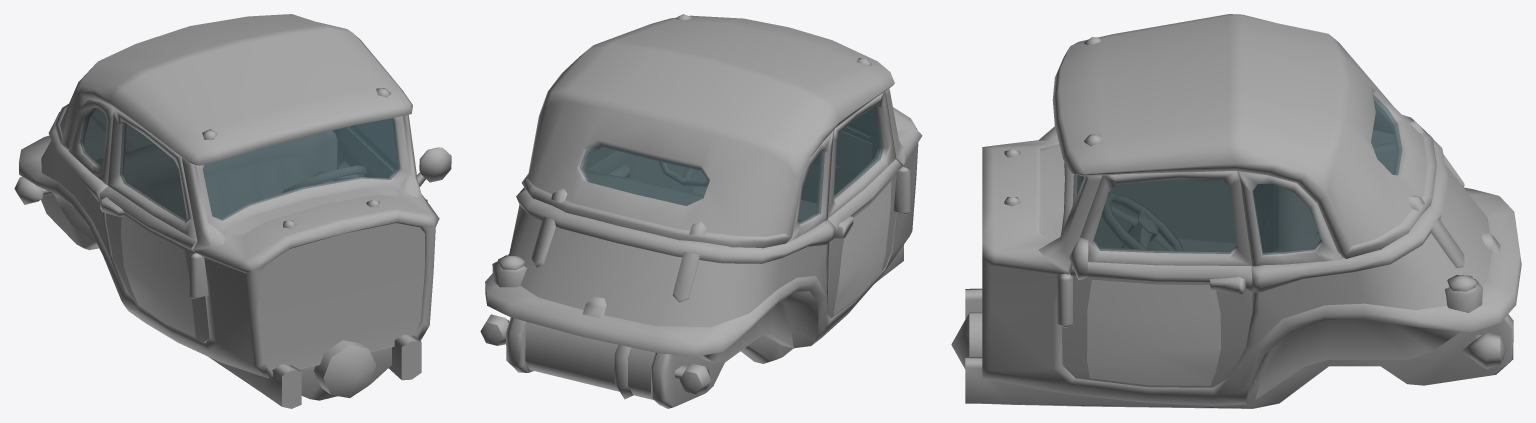
The model's file is Body_Bug.fbx.
3 renders of one model, left to right at view 1: azimuth 30°, elevation 25°; view 2: azimuth 150°, elevation 25°; view 3: azimuth 270°, elevation 25°, orthographic. The views are drawn at different scales.
Visible parts, largest first — view 1: Bug_Body_Mesh, Bug_Roof_Mesh, Bug_Body_Window_Mesh, Bug_Door_Right_Mesh, Bug_Door_Right_Decal_Mesh, Bug_Door_Right_Window_Mesh, Bug_Door_Left_Mesh, Bug_Door_Left_Window_Mesh, SteerWheel_Mesh; view 2: Bug_Body_Mesh, Bug_Roof_Mesh, Bug_Door_Right_Mesh, Bug_Roof_Window_Mesh, Bug_Door_Right_Decal_Mesh, Bug_Door_Right_Window_Mesh, Bug_Door_Left_Mesh, Bug_Body_Window_Mesh, SteerWheel_Mesh; view 3: Bug_Body_Mesh, Bug_Roof_Mesh, Bug_Door_Left_Mesh, Bug_Door_Left_Decal_Mesh, Bug_Door_Left_Window_Mesh, Bug_Door_Right_Mesh, Bug_Body_Window_Mesh, SteerWheel_Mesh, Bug_Roof_Window_Mesh.
Boxes of the visible parts, box(x1,y1,x2,y2) form: Bug_Body_Mesh: box(14, 99, 439, 408); Bug_Roof_Mesh: box(54, 14, 412, 165); Bug_Body_Window_Mesh: box(80, 108, 400, 220); Bug_Door_Right_Mesh: box(99, 108, 209, 342); Bug_Door_Right_Decal_Mesh: box(121, 215, 195, 337); Bug_Door_Right_Window_Mesh: box(120, 122, 186, 221); Bug_Door_Left_Mesh: box(338, 127, 451, 186); Bug_Door_Left_Window_Mesh: box(351, 119, 396, 168); SteerWheel_Mesh: box(282, 166, 366, 192); Bug_Body_Mesh: box(480, 88, 922, 408); Bug_Roof_Mesh: box(521, 14, 894, 248); Bug_Door_Right_Mesh: box(826, 91, 902, 318); Bug_Roof_Window_Mesh: box(580, 144, 709, 205); Bug_Door_Right_Decal_Mesh: box(833, 181, 891, 315); Bug_Door_Right_Window_Mesh: box(833, 106, 883, 199); Bug_Door_Left_Mesh: box(587, 147, 692, 192); Bug_Body_Window_Mesh: box(797, 108, 876, 224); SteerWheel_Mesh: box(659, 162, 708, 186); Bug_Body_Mesh: box(951, 126, 1521, 408); Bug_Roof_Mesh: box(1052, 14, 1436, 258); Bug_Door_Left_Mesh: box(1062, 170, 1252, 387); Bug_Door_Left_Decal_Mesh: box(1087, 279, 1221, 385); Bug_Door_Left_Window_Mesh: box(1093, 179, 1237, 253); Bug_Door_Right_Mesh: box(1094, 179, 1235, 247); Bug_Body_Window_Mesh: box(1072, 174, 1321, 255); SteerWheel_Mesh: box(1102, 193, 1183, 250); Bug_Roof_Window_Mesh: box(1371, 94, 1402, 175).
Bounding box in the file's own units: 180 × 169 × 274.
